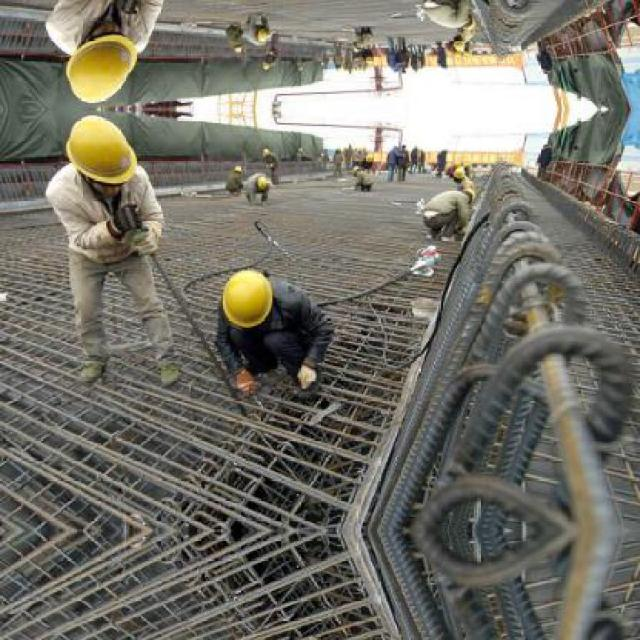helmet: (62, 22, 138, 104), (62, 112, 138, 193), (218, 263, 277, 331), (456, 180, 479, 205), (456, 11, 479, 35), (448, 164, 466, 181), (448, 34, 466, 51), (254, 26, 268, 45), (254, 171, 268, 189), (228, 160, 242, 174), (228, 40, 242, 54), (260, 142, 272, 156), (260, 59, 272, 73), (362, 54, 373, 66), (351, 160, 360, 174), (351, 40, 360, 54), (362, 150, 373, 161)
